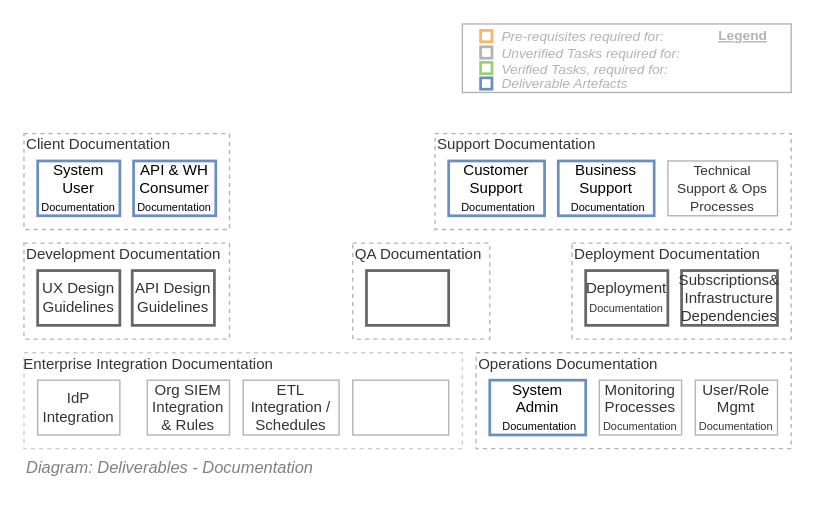
This 815x506 diagram has some shape labels left out. Here are the shapes that lost their labels. From the top down, the centre of each, then its label:
the point at 406,297: Testing Processes Documentation
the point at 400,407: Monitoring Configuration / Processes
